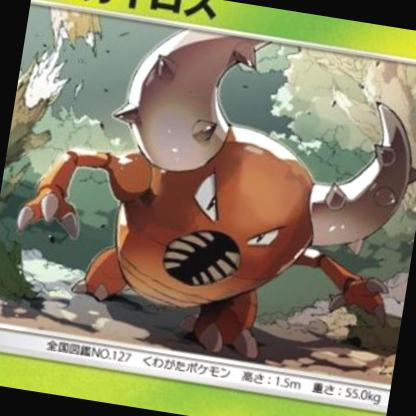Pinsir: (0, 10, 415, 415)
